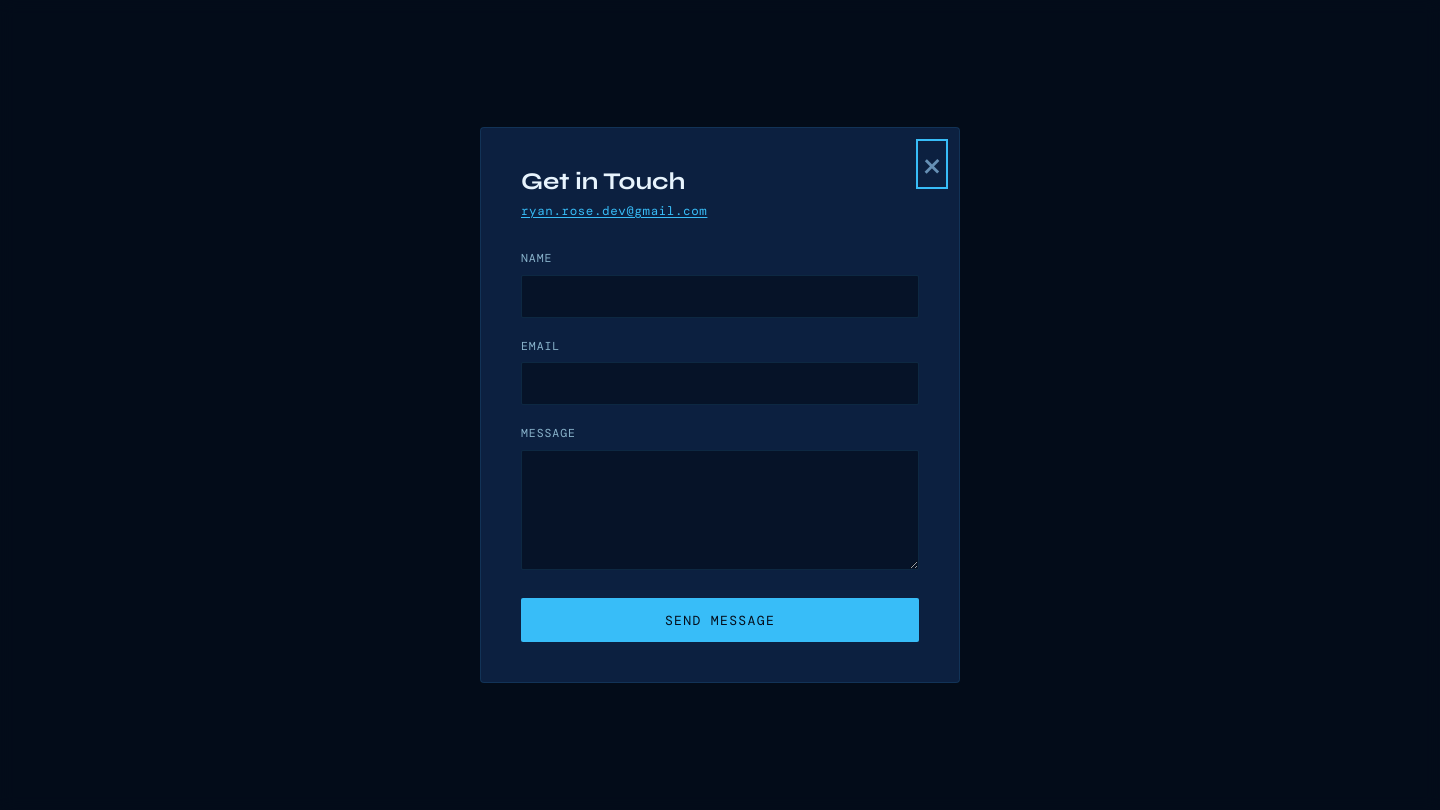
Test: ContactModal › shows an error message when the submission fails
Type "Jerome" into the field labelled "Name" at (720, 296), box top-left (521, 275), bottom-right (919, 318)
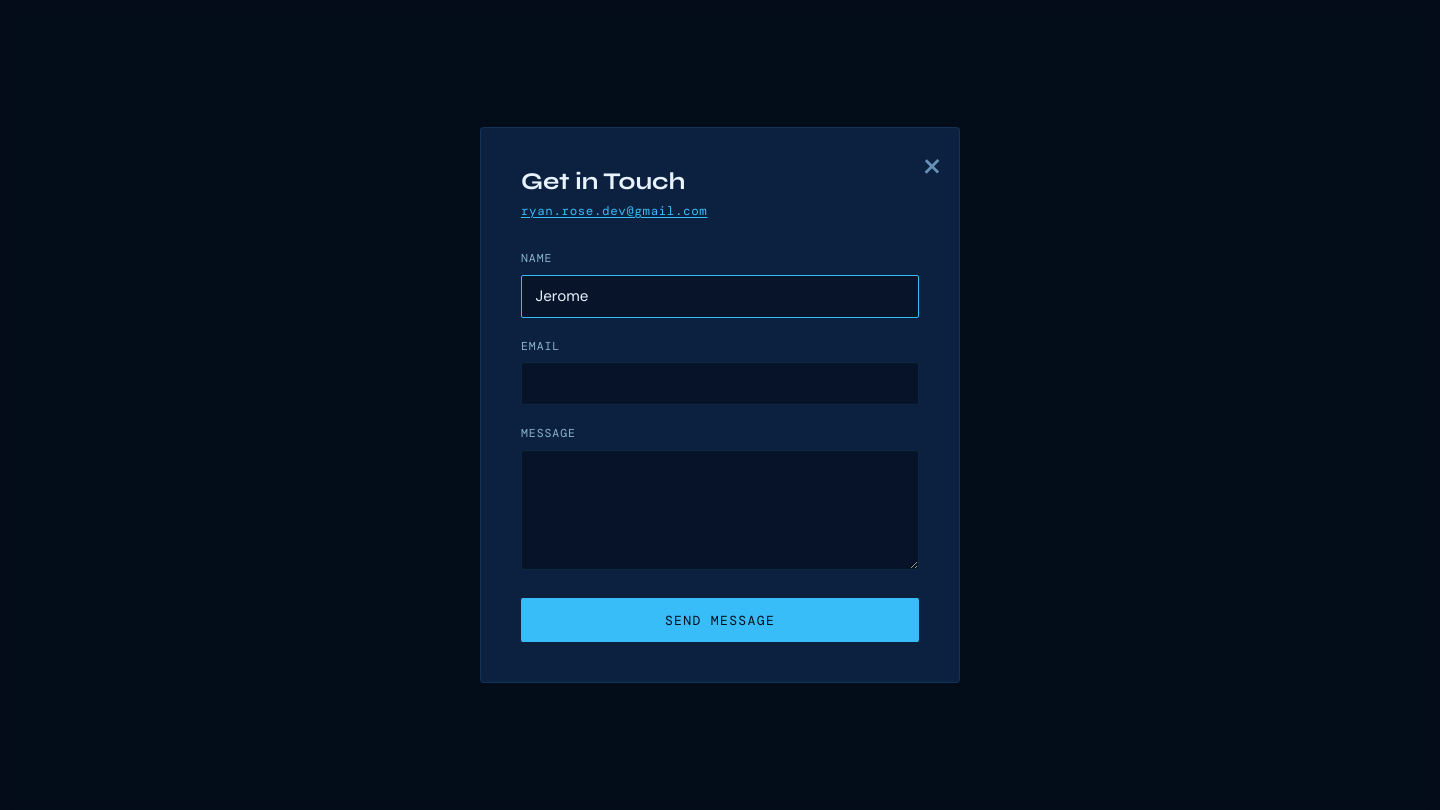
Type "jerome@example.com" into the field labelled "Email" at (720, 384), box top-left (521, 362), bottom-right (919, 405)
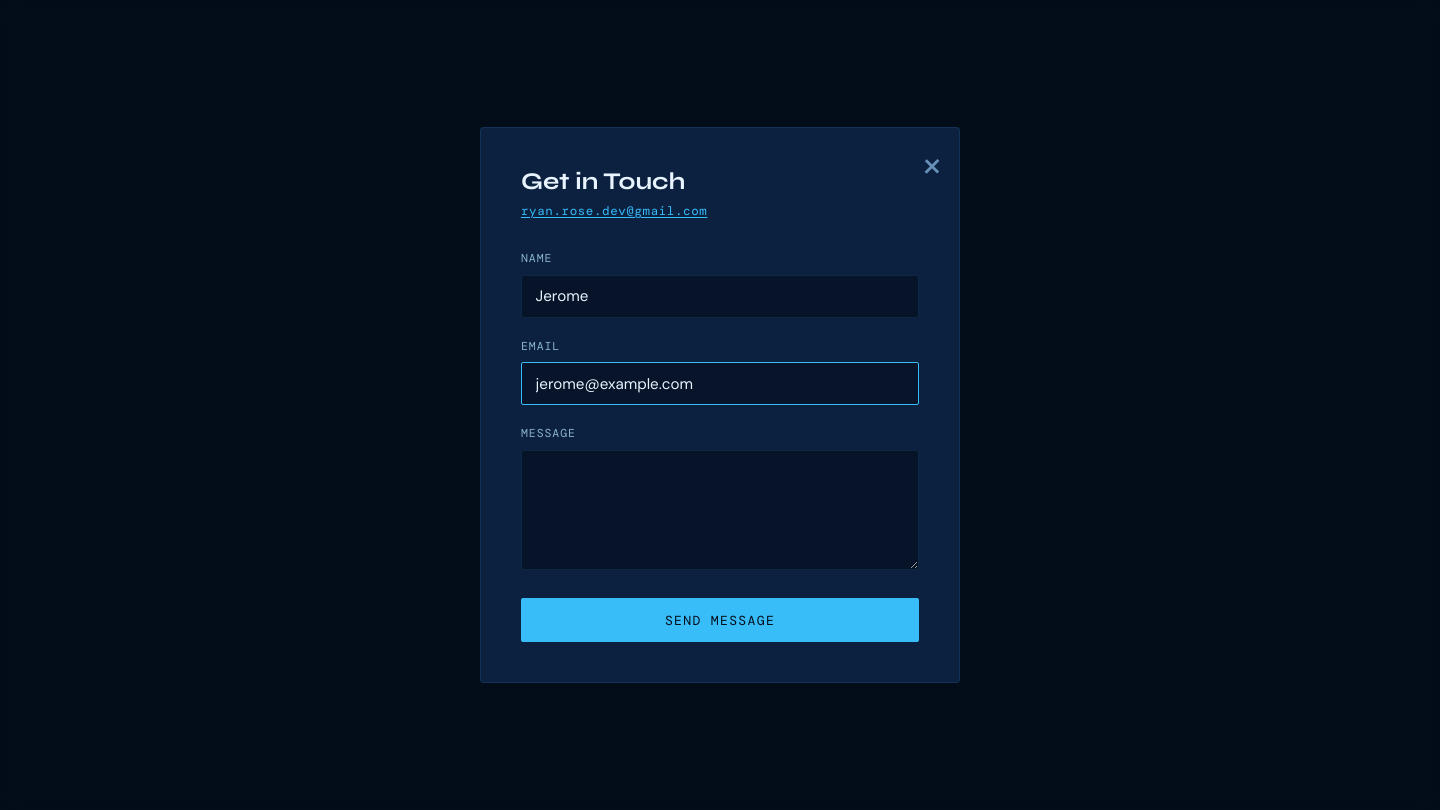
Type "Hello there" into the text box labelled "Message" at (720, 510), box top-left (521, 450), bottom-right (919, 570)
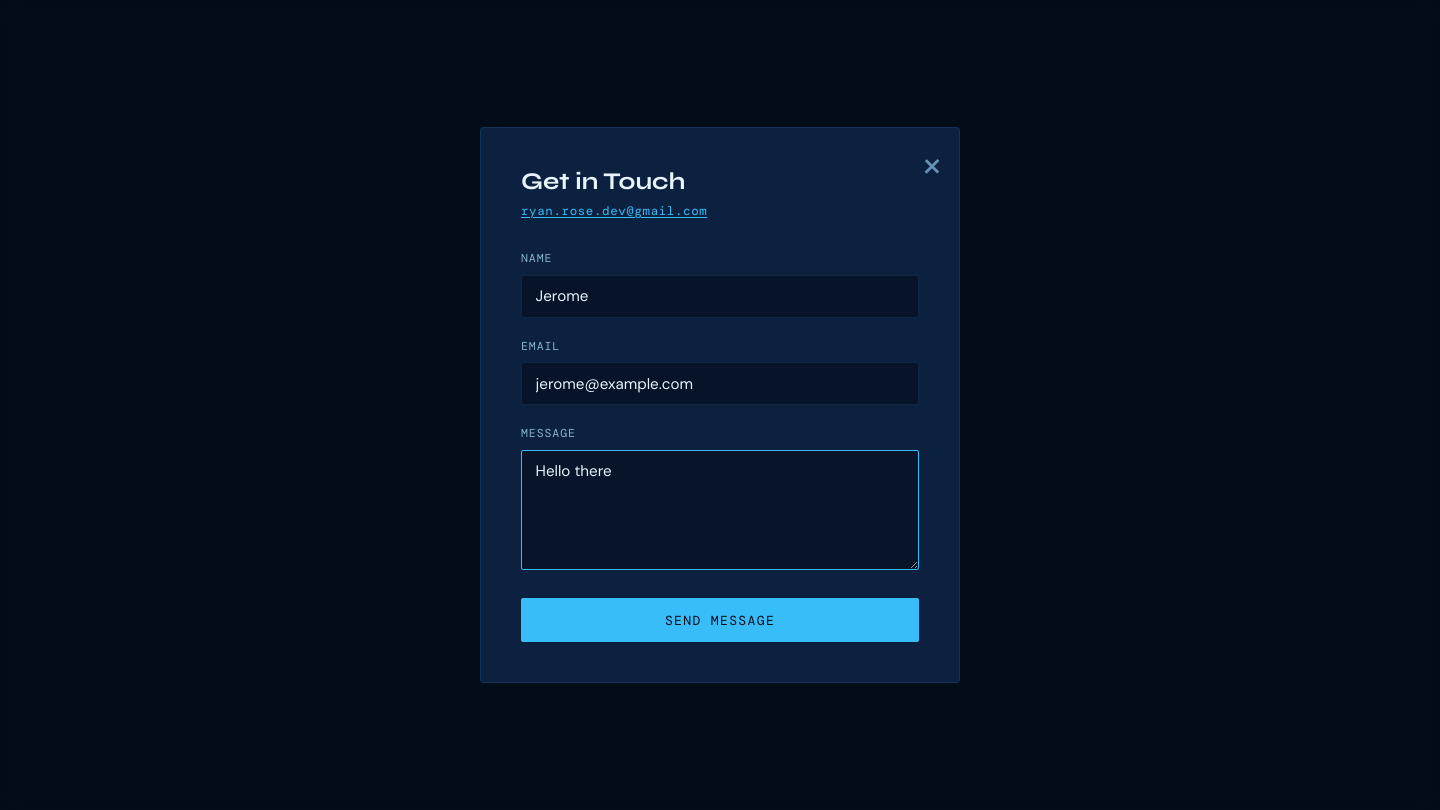
Click the button "Send Message" at (720, 620), box top-left (521, 598), bottom-right (919, 642)
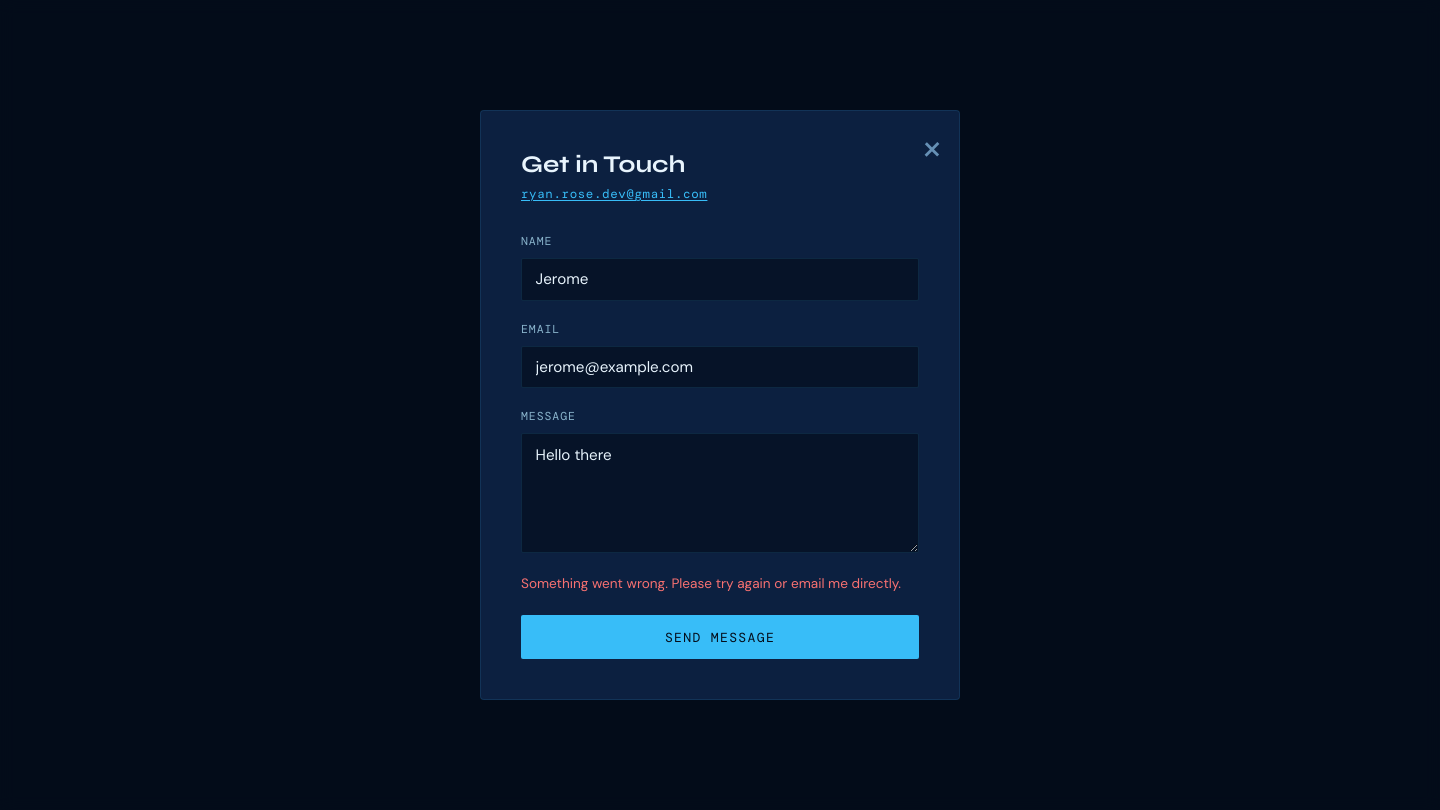
Now the text "Something went wrong. Please try again or email me directly." is shown, box top-left (521, 573), bottom-right (919, 595)
